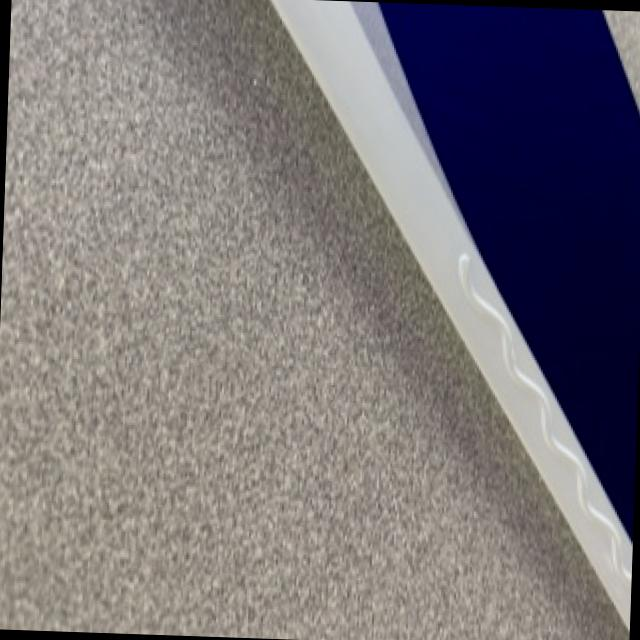healthy: (0, 0, 627, 640), (271, 2, 640, 623)
